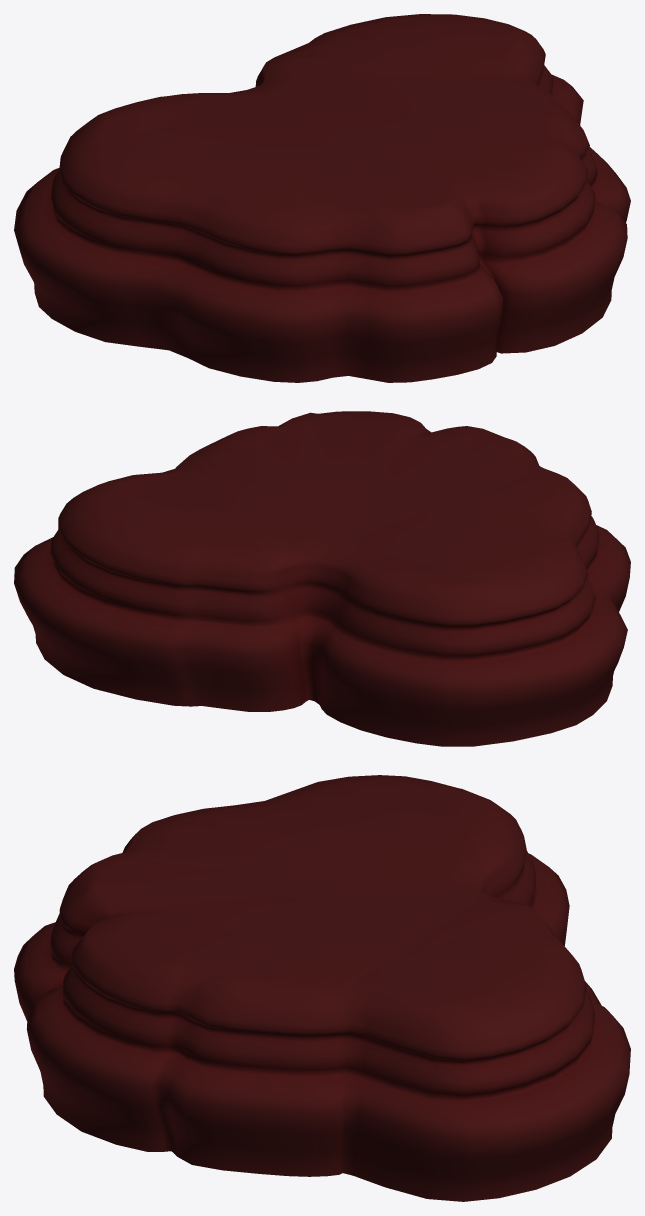
Rendered from castleBase.fbx.
3 renders of one model, top to bottom at view 1: azimuth 30°, elevation 25°; view 2: azimuth 150°, elevation 25°; view 3: azimuth 270°, elevation 25°, orthographic. The views are drawn at different scales.
Visible parts, largest first — view 1: CastleBase; view 2: CastleBase; view 3: CastleBase.
Boxes of the visible parts, box(x1,y1,x2,y2) form: CastleBase: box(14, 14, 630, 382); CastleBase: box(14, 411, 630, 746); CastleBase: box(14, 775, 630, 1201).
Bounding box in the file's own units: 174 × 42.28 × 145.
1 material, 1 textured.
